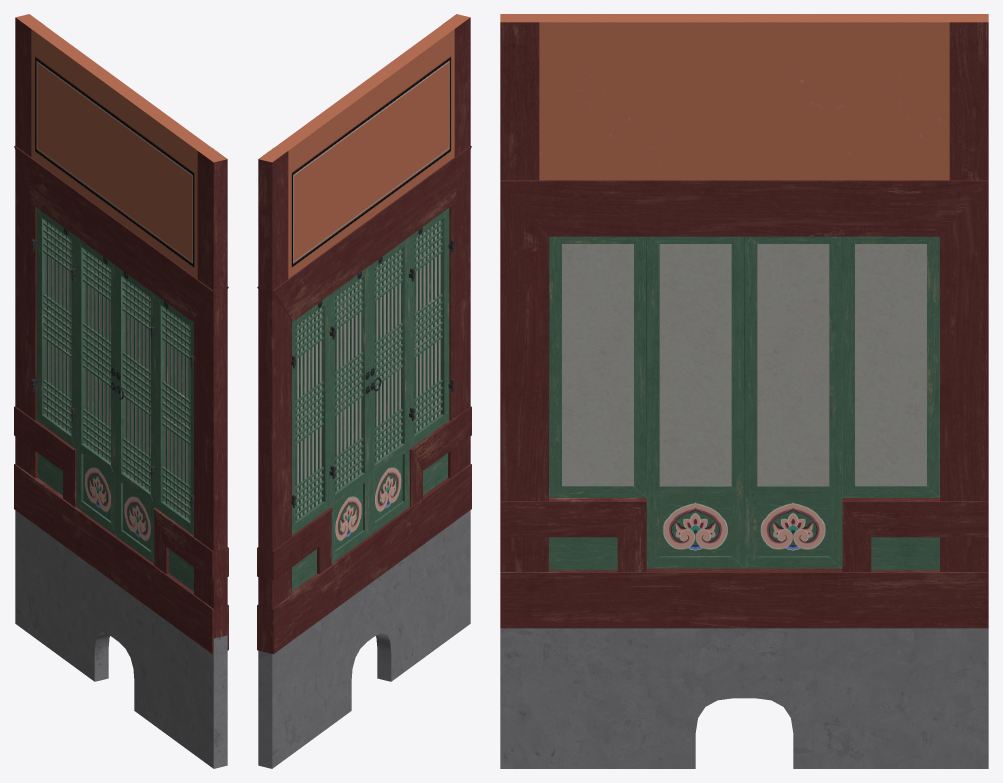
File: SM_CGJ_Wall01g.fbx
The picture shows the model from 3 angles, left to right: view 1: azimuth 30°, elevation 25°; view 2: azimuth 150°, elevation 25°; view 3: azimuth 270°, elevation 25°; orthographic projection. The views are drawn at different scales.
Parts seen in each view (by area): view 1: SM_CGJ_Wall01g; view 2: SM_CGJ_Wall01g; view 3: SM_CGJ_Wall01g.
Boxes of the visible parts, <box> form: SM_CGJ_Wall01g: <box>14,14,228,768</box>; SM_CGJ_Wall01g: <box>257,14,471,768</box>; SM_CGJ_Wall01g: <box>500,14,988,768</box>.
Bounding box in the file's own units: 13.46 × 250 × 422.
7 materials, 7 textured.
